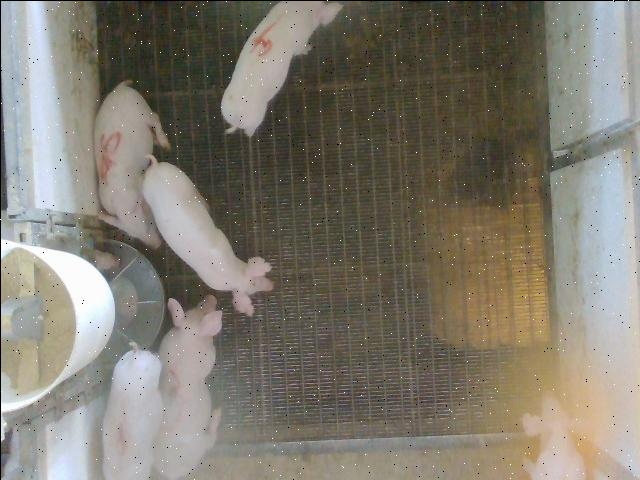pig-1: (101, 342, 162, 479)
pig-3: (152, 294, 221, 478)
pig-4: (220, 0, 340, 135)
pig-5: (94, 80, 169, 246)
